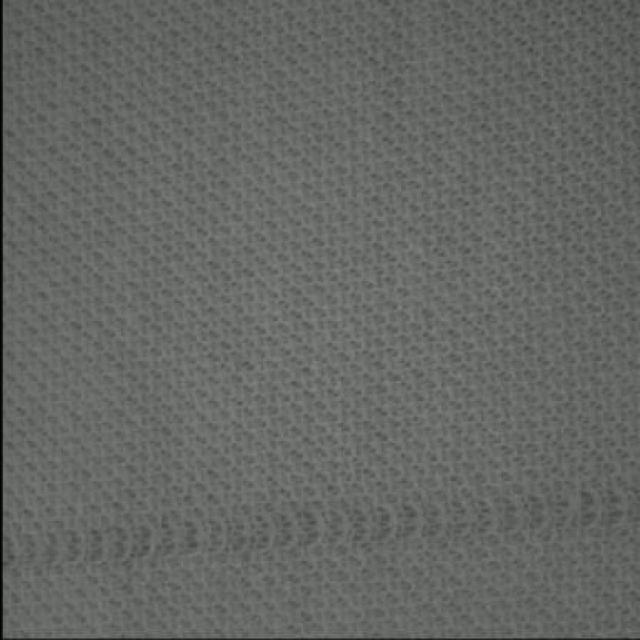Line: (3, 490, 639, 572)
